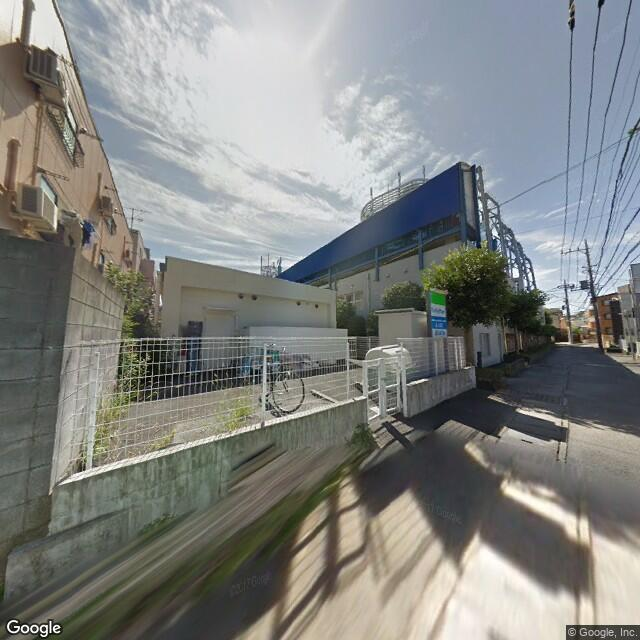family_mart: (427, 284, 449, 332)
